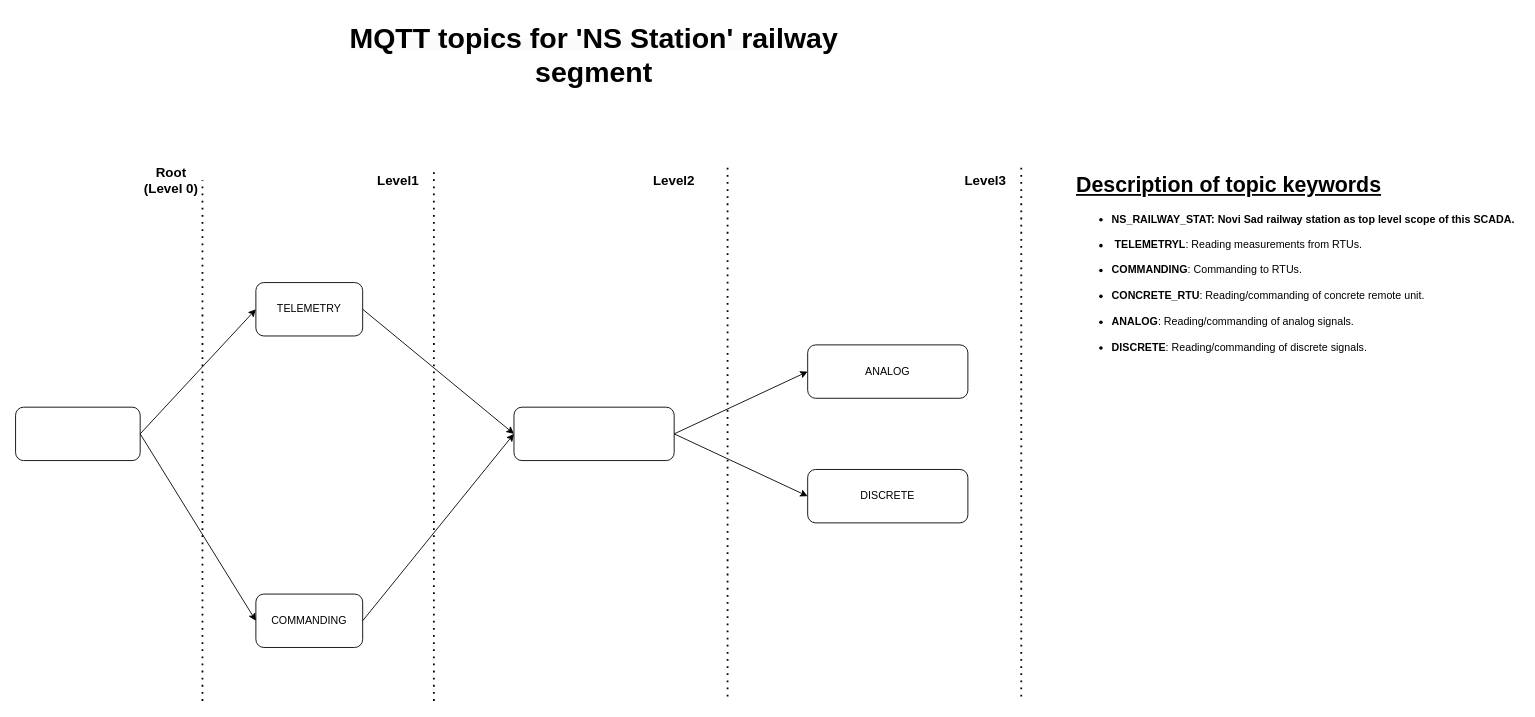
Some shapes in this 1535 by 717 pixel diagram are drawn without their labels. The shapes that lost their labels are listed below. From the top down, each one's centre as x and y in pixels, then its label:
(77,433): NS_RAILWAY_STATION
(593,433): CONCRETE_RTU
